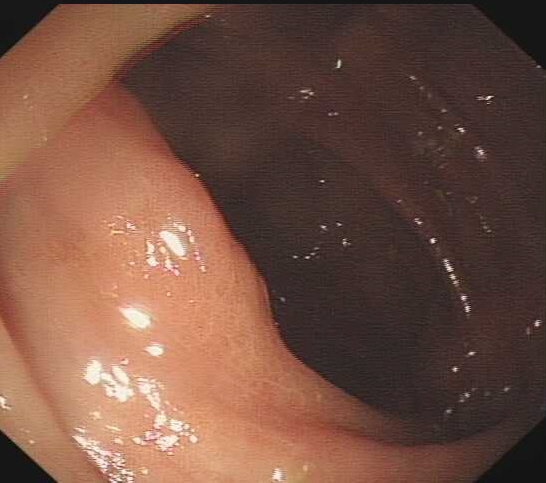others: (112, 146, 235, 300)
